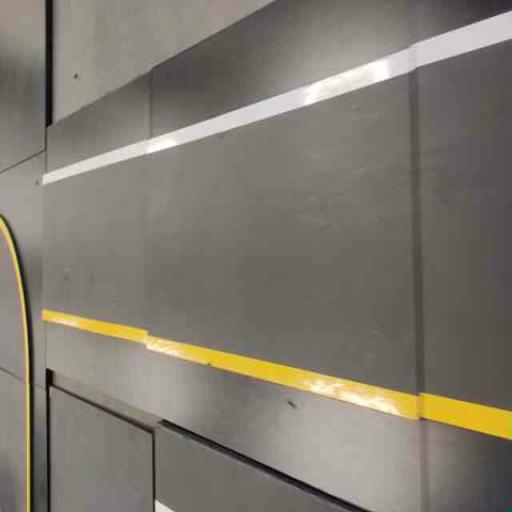straight: (151, 16, 423, 444)
